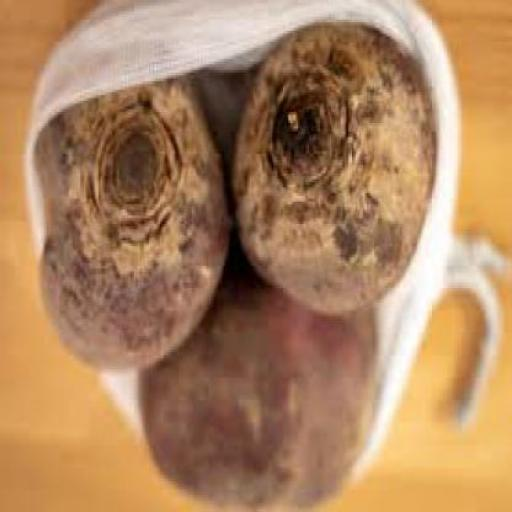biodegradable: (136, 240, 378, 512), (229, 22, 436, 319), (33, 72, 228, 376)
